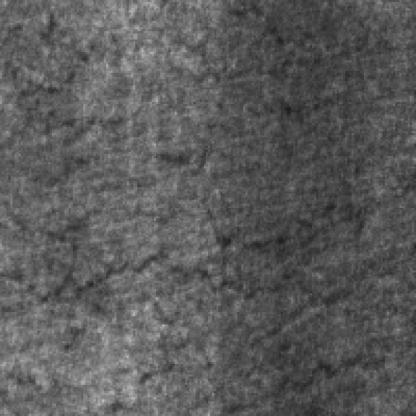crazing: (14, 206, 376, 314), (13, 27, 198, 191)
